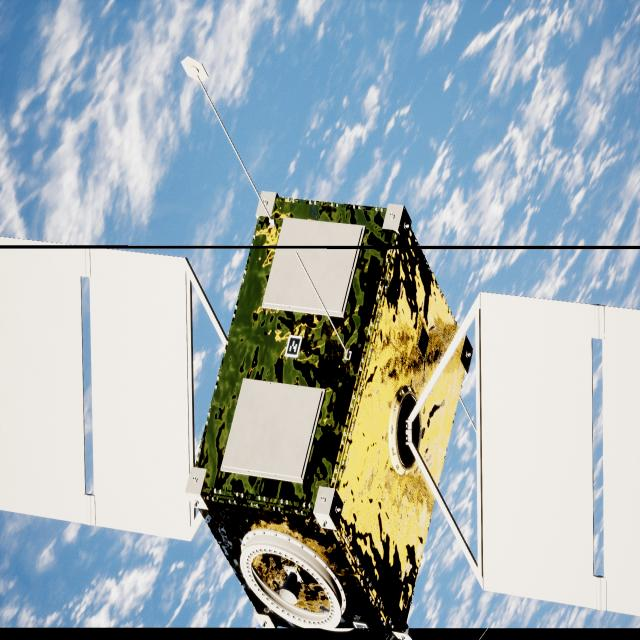satellite: (0, 196, 640, 637)
